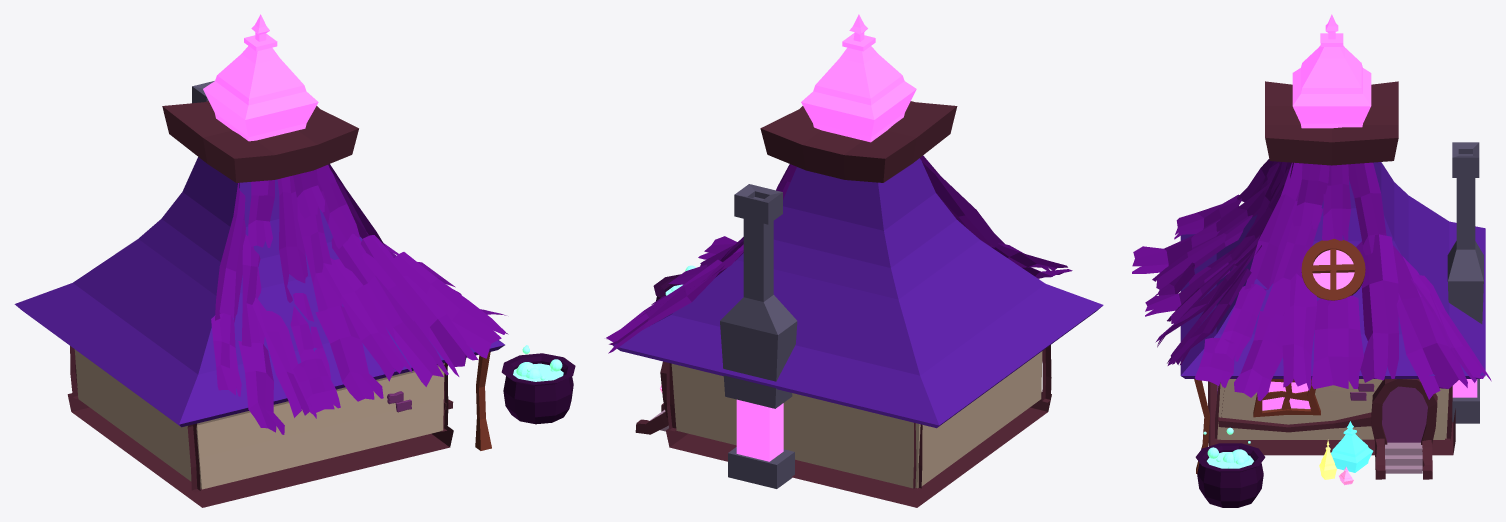
File: alkemist.glb
3 views of the same model, side by side, from view 1: azimuth 30°, elevation 25°; view 2: azimuth 150°, elevation 25°; view 3: azimuth 270°, elevation 25° (orthographic). The views are drawn at different scales.
Visible parts, largest first — view 1: Cube; view 2: Cube; view 3: Cube.
Boxes of the visible parts, box(x1,y1,x2,y2) form: Cube: box(14, 14, 575, 507); Cube: box(606, 14, 1103, 507); Cube: box(1132, 14, 1491, 507).
Bounding box in the file's own units: 8.2 × 7.88 × 6.6.
